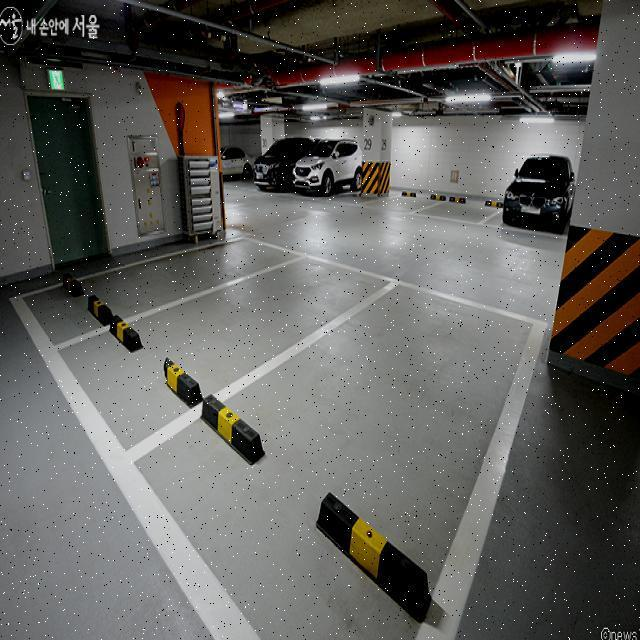Car: (504, 153, 577, 233), (296, 125, 362, 202), (247, 138, 298, 192)
Vacant: (192, 380, 560, 623), (79, 305, 268, 414), (56, 255, 242, 313), (430, 196, 496, 224), (369, 188, 433, 213)
